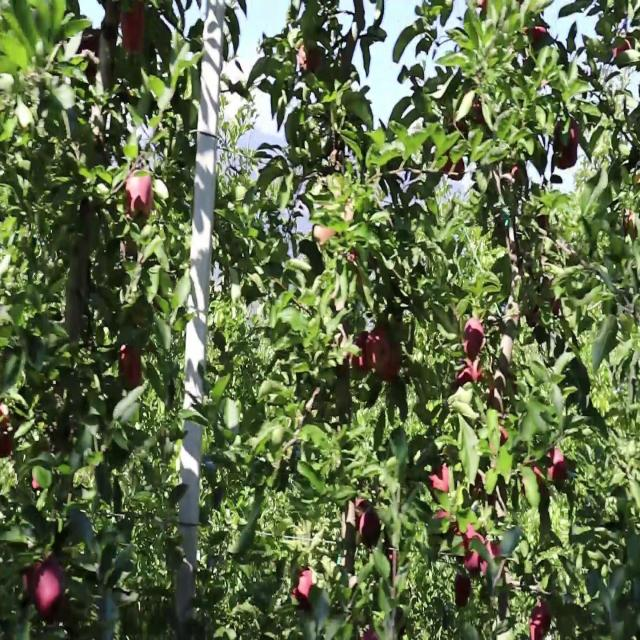apple: (32, 560, 62, 622), (366, 327, 401, 380), (370, 329, 401, 380), (554, 118, 580, 169), (125, 173, 154, 218), (355, 498, 381, 547), (121, 0, 145, 53), (462, 524, 486, 573), (554, 118, 580, 161), (355, 498, 380, 541), (119, 344, 141, 389), (521, 467, 545, 504), (464, 316, 484, 360), (540, 276, 561, 316), (351, 331, 372, 371), (530, 600, 551, 639), (292, 569, 312, 609), (488, 369, 506, 413), (524, 24, 551, 51), (456, 358, 481, 387), (22, 562, 41, 599), (548, 447, 568, 482), (488, 418, 508, 453), (350, 498, 370, 531), (298, 44, 322, 71), (442, 156, 465, 180), (430, 464, 449, 493), (455, 573, 471, 607), (312, 224, 338, 244), (622, 209, 638, 240), (532, 464, 546, 498), (469, 96, 485, 124), (612, 40, 631, 58), (0, 402, 12, 430), (485, 542, 501, 558), (485, 542, 501, 558), (551, 298, 561, 317), (458, 120, 468, 136), (31, 476, 40, 491), (480, 560, 488, 576), (481, 560, 488, 576)
